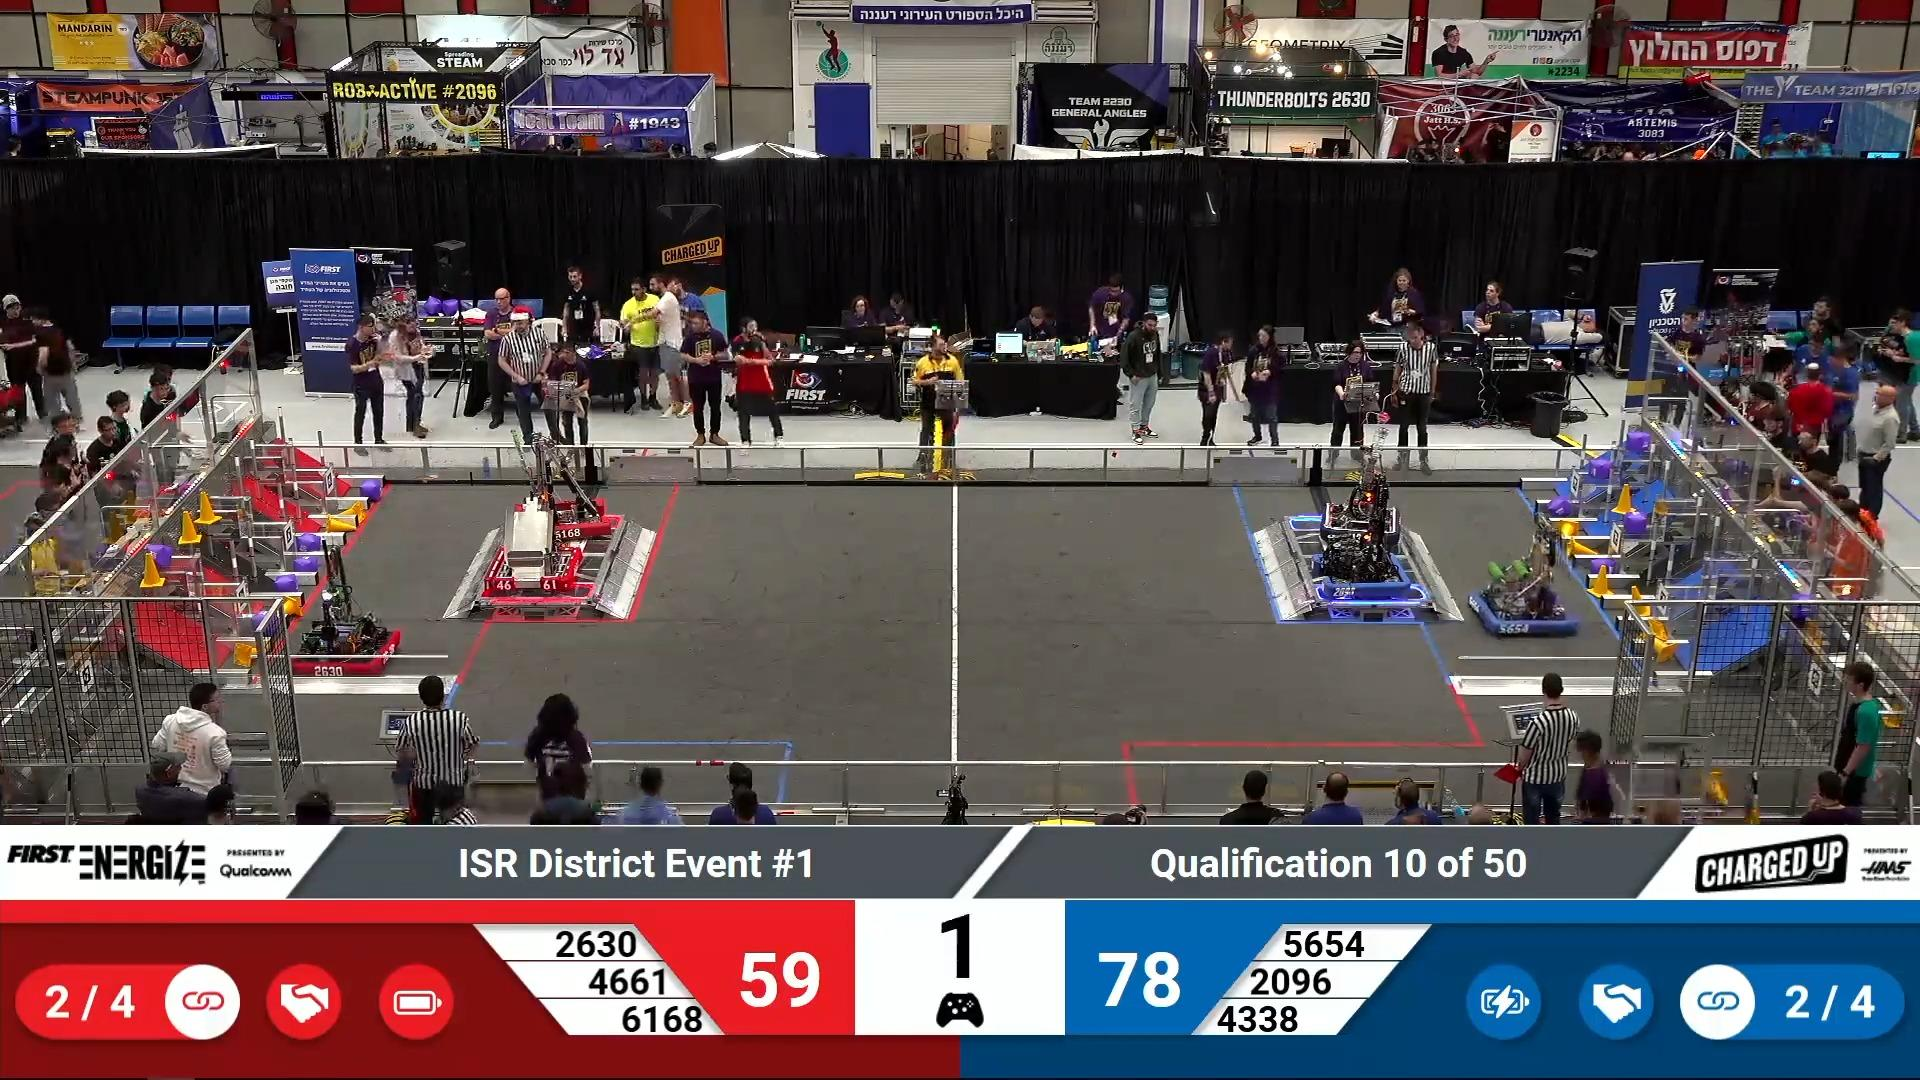robot: (504, 431, 616, 543), (290, 582, 405, 680), (1468, 554, 1580, 644), (1317, 443, 1403, 542), (483, 527, 584, 596), (1308, 538, 1414, 601)
